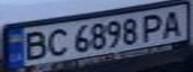6: (69, 21, 93, 53)
8: (118, 16, 145, 45), (87, 20, 109, 51)
9: (103, 18, 127, 48)
A: (157, 7, 190, 38)
B: (15, 29, 51, 61)
C: (42, 26, 72, 57)
P: (136, 11, 169, 42)
